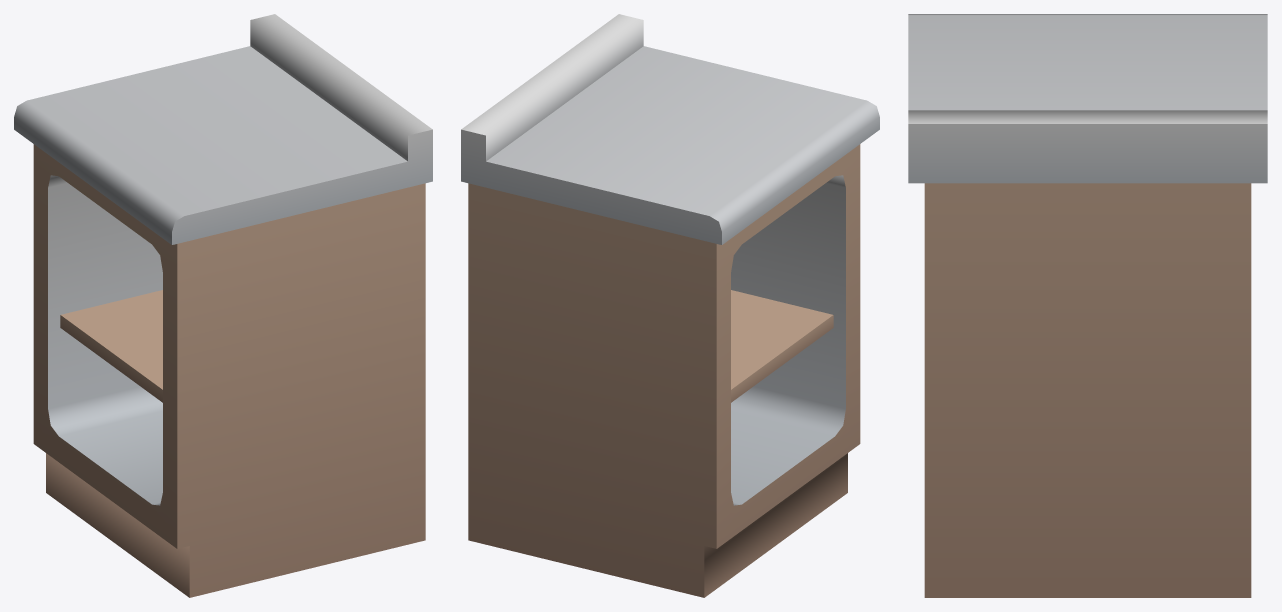
File: cabinet-basic-planks.glb
3 views of the same model, side by side, from view 1: azimuth 30°, elevation 25°; view 2: azimuth 150°, elevation 25°; view 3: azimuth 270°, elevation 25° (orthographic). The views are drawn at different scales.
Visible parts, largest first — view 1: cabinet-basic-planks; view 2: cabinet-basic-planks; view 3: cabinet-basic-planks.
Boxes of the visible parts, <box> form: cabinet-basic-planks: <box>14,14,432,597</box>; cabinet-basic-planks: <box>461,14,879,597</box>; cabinet-basic-planks: <box>908,14,1267,597</box>.
Bounding box in the file's own units: 0.525 × 0.8 × 0.55.
